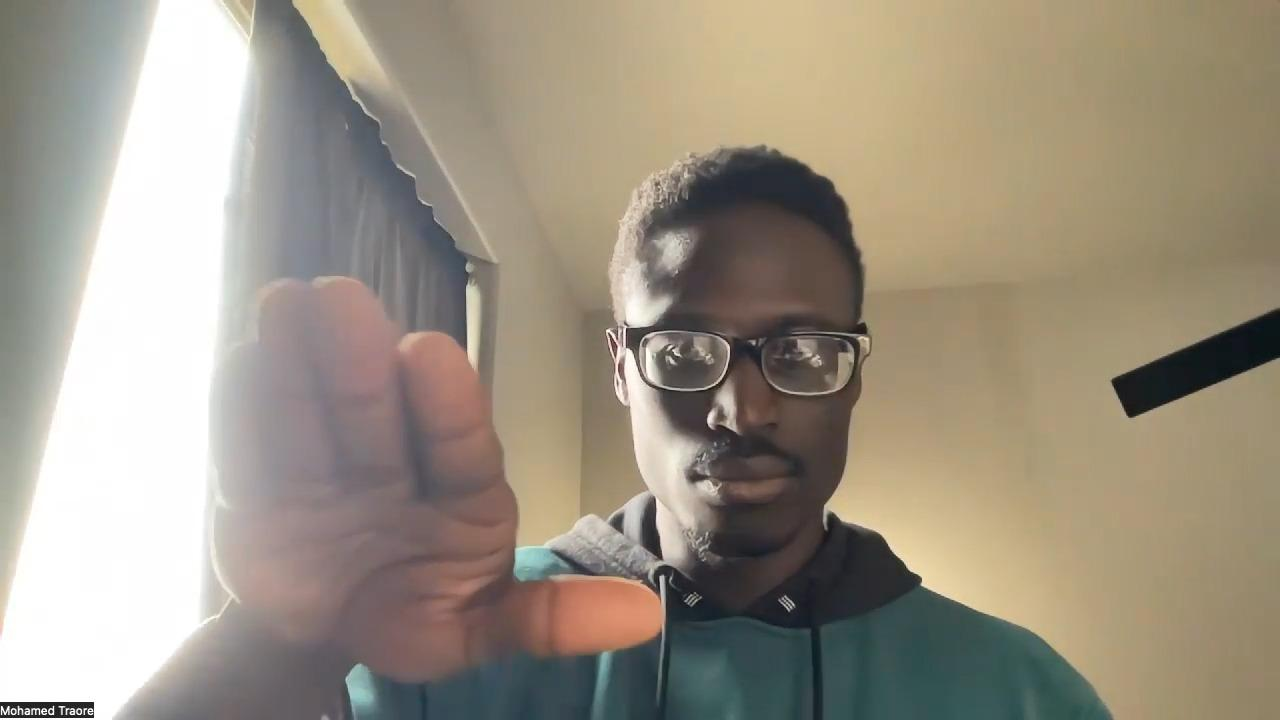Paper: (207, 277, 666, 683)
